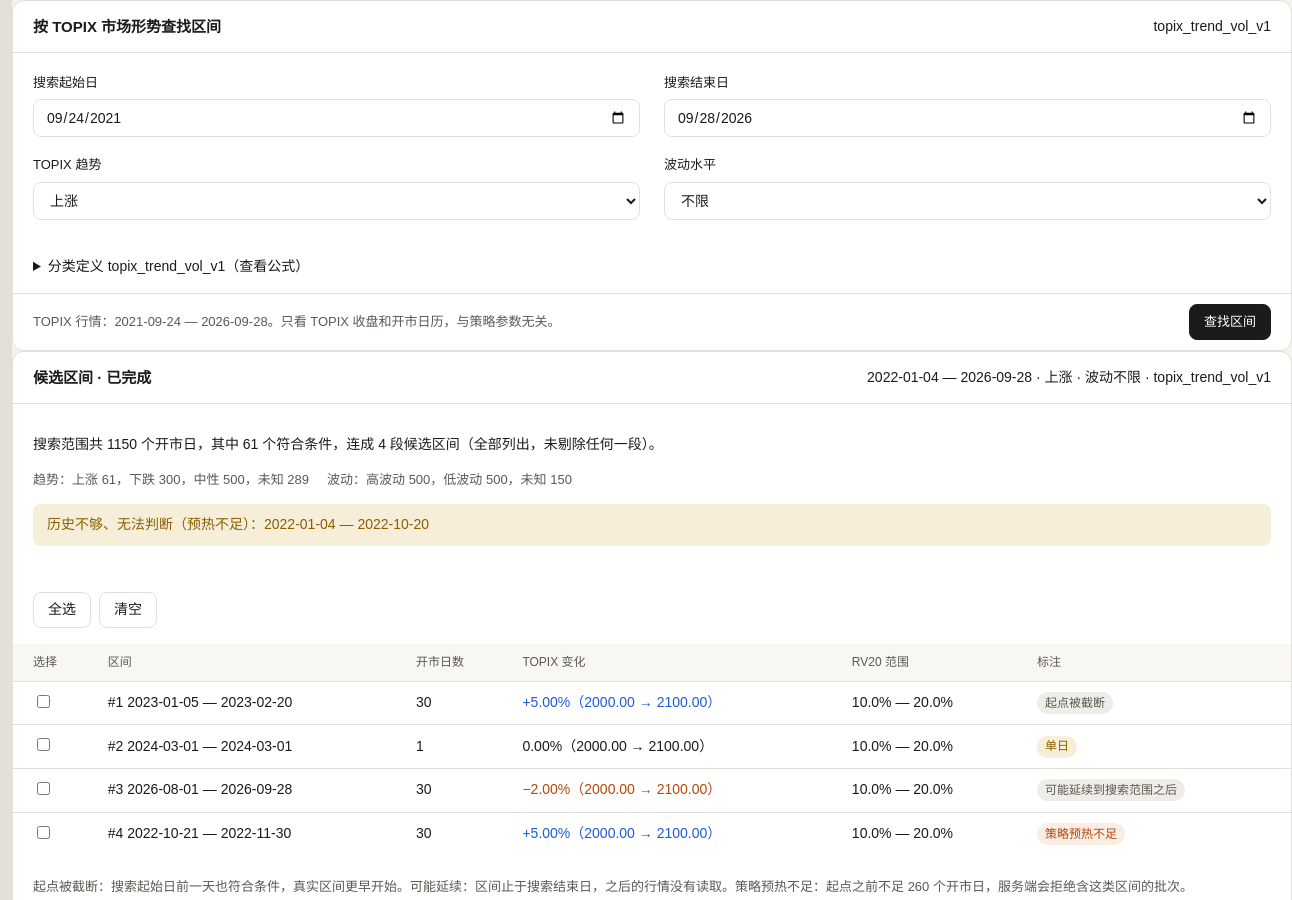
选择超过单批上限时提示并禁止运行，而不是悄悄截掉
The image size is (1292, 900).
expect the table named "候选区间列表" is shown: met, box left=13, top=644, right=1291, bottom=855
Click the button "全选" at (62, 610), box left=33, top=592, right=91, bottom=628
(page scrolled)
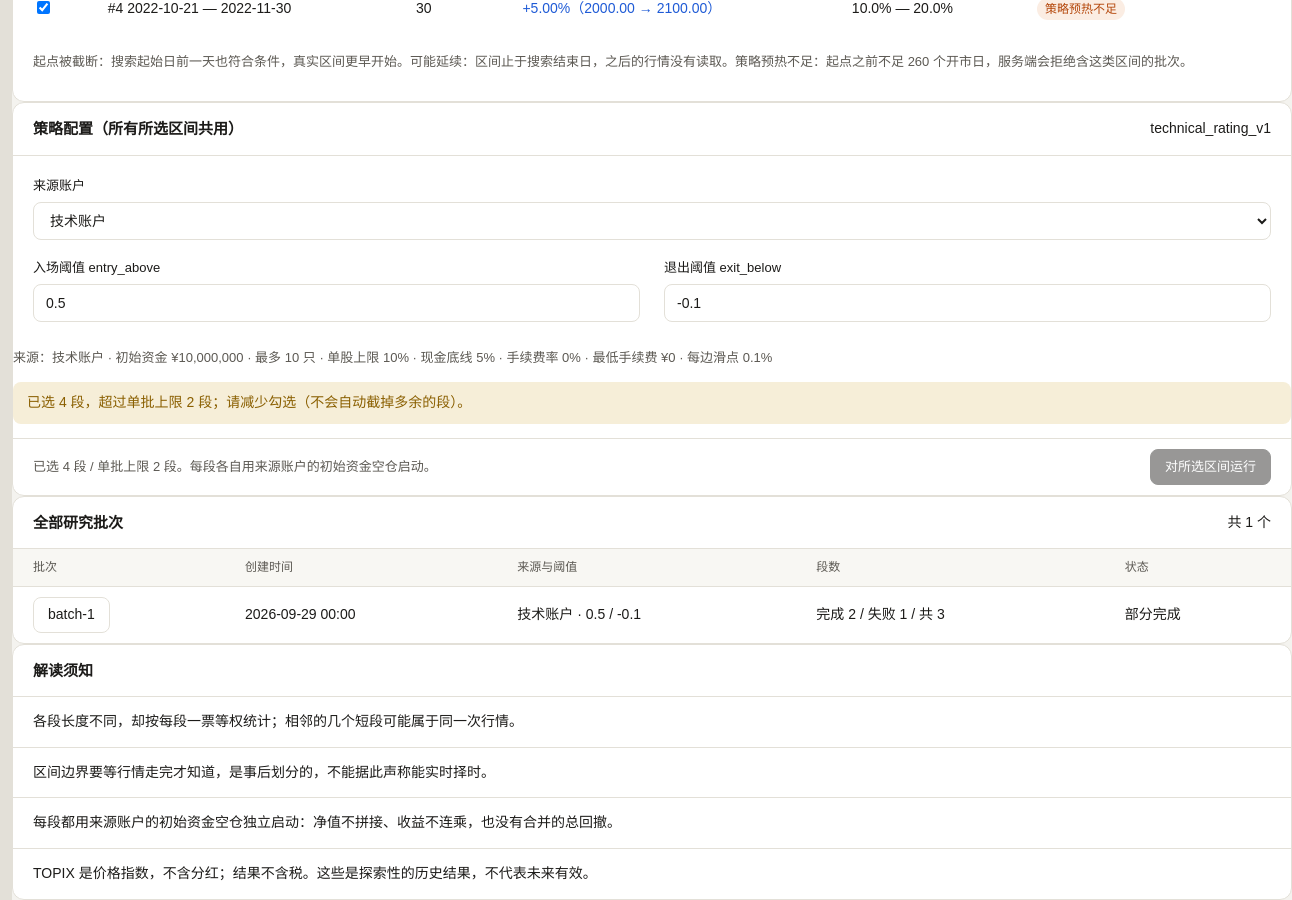
expect the button "对所选区间运行" is disabled: met, box left=1150, top=449, right=1271, bottom=485
expect the text "已选 4 段，超过单批上限 2 段；请减少勾选（不会自动截掉多余的段）。" is shown: met, box left=13, top=382, right=1291, bottom=424
